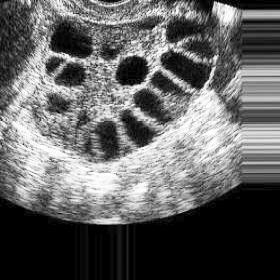PCOS: (162, 48, 213, 88), (134, 82, 172, 128), (49, 22, 93, 58), (120, 109, 154, 148), (114, 53, 148, 88), (150, 68, 188, 98), (163, 18, 208, 43), (96, 117, 120, 159), (57, 62, 87, 89), (184, 40, 222, 61), (44, 94, 72, 120), (43, 57, 70, 77)
